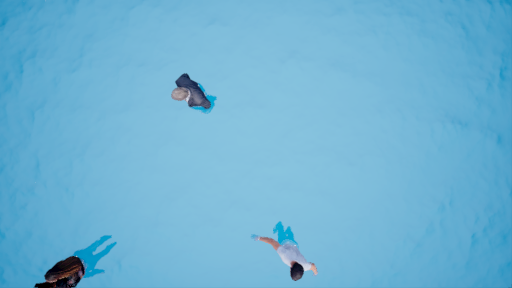person: (251, 212, 330, 284), (39, 223, 114, 288), (164, 70, 222, 109)
